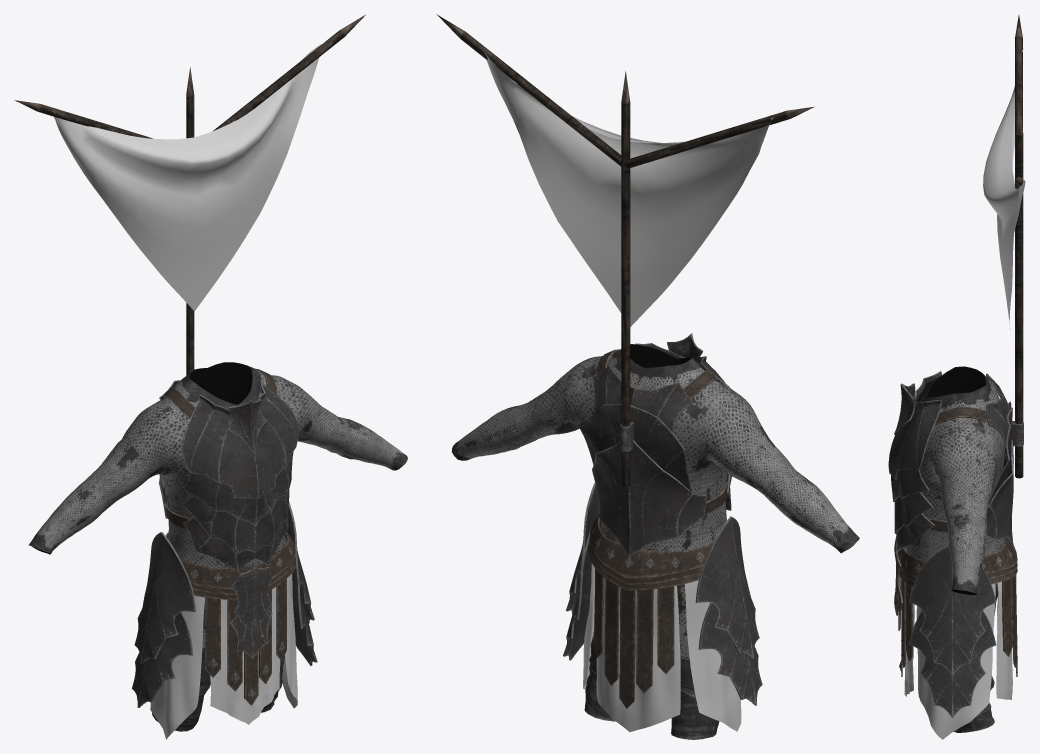
The model's file is sk_uruk_mordor_chainmail_captain_a1.fbx.
3 views of the same model, side by side, from view 1: azimuth 30°, elevation 25°; view 2: azimuth 150°, elevation 25°; view 3: azimuth 270°, elevation 25° (orthographic). The views are drawn at different scales.
Parts seen in each view (by area): view 1: sk_uruk_mordor_chainmail_captain_a1.2, sk_uruk_mordor_chainmail_captain_a1.3, sk_uruk_mordor_chainmail_captain_a1.0, sk_uruk_mordor_chainmail_captain_a1.1, sk_uruk_mordor_chainmail_captain_a1.4; view 2: sk_uruk_mordor_chainmail_captain_a1.2, sk_uruk_mordor_chainmail_captain_a1.0, sk_uruk_mordor_chainmail_captain_a1.1, sk_uruk_mordor_chainmail_captain_a1.3, sk_uruk_mordor_chainmail_captain_a1.4; view 3: sk_uruk_mordor_chainmail_captain_a1.0, sk_uruk_mordor_chainmail_captain_a1.4, sk_uruk_mordor_chainmail_captain_a1.3, sk_uruk_mordor_chainmail_captain_a1.1, sk_uruk_mordor_chainmail_captain_a1.2.
Boxes of the visible parts, x1=… form: sk_uruk_mordor_chainmail_captain_a1.2: x1=54, y1=42, x2=324, y2=739; sk_uruk_mordor_chainmail_captain_a1.3: x1=158, y1=380, x2=298, y2=658; sk_uruk_mordor_chainmail_captain_a1.0: x1=29, y1=362, x2=407, y2=731; sk_uruk_mordor_chainmail_captain_a1.1: x1=14, y1=15, x2=365, y2=705; sk_uruk_mordor_chainmail_captain_a1.4: x1=132, y1=501, x2=317, y2=707; sk_uruk_mordor_chainmail_captain_a1.2: x1=482, y1=48, x2=774, y2=731; sk_uruk_mordor_chainmail_captain_a1.0: x1=451, y1=344, x2=859, y2=739; sk_uruk_mordor_chainmail_captain_a1.1: x1=436, y1=14, x2=814, y2=708; sk_uruk_mordor_chainmail_captain_a1.3: x1=577, y1=333, x2=731, y2=557; sk_uruk_mordor_chainmail_captain_a1.4: x1=563, y1=483, x2=762, y2=705; sk_uruk_mordor_chainmail_captain_a1.0: x1=905, y1=366, x2=1005, y2=732; sk_uruk_mordor_chainmail_captain_a1.4: x1=909, y1=545, x2=996, y2=718; sk_uruk_mordor_chainmail_captain_a1.3: x1=888, y1=371, x2=1013, y2=630; sk_uruk_mordor_chainmail_captain_a1.1: x1=898, y1=15, x2=1023, y2=676; sk_uruk_mordor_chainmail_captain_a1.2: x1=904, y1=48, x2=1025, y2=739.
Bounding box in the file's own units: 1.37 × 0.4529 × 2.24.
